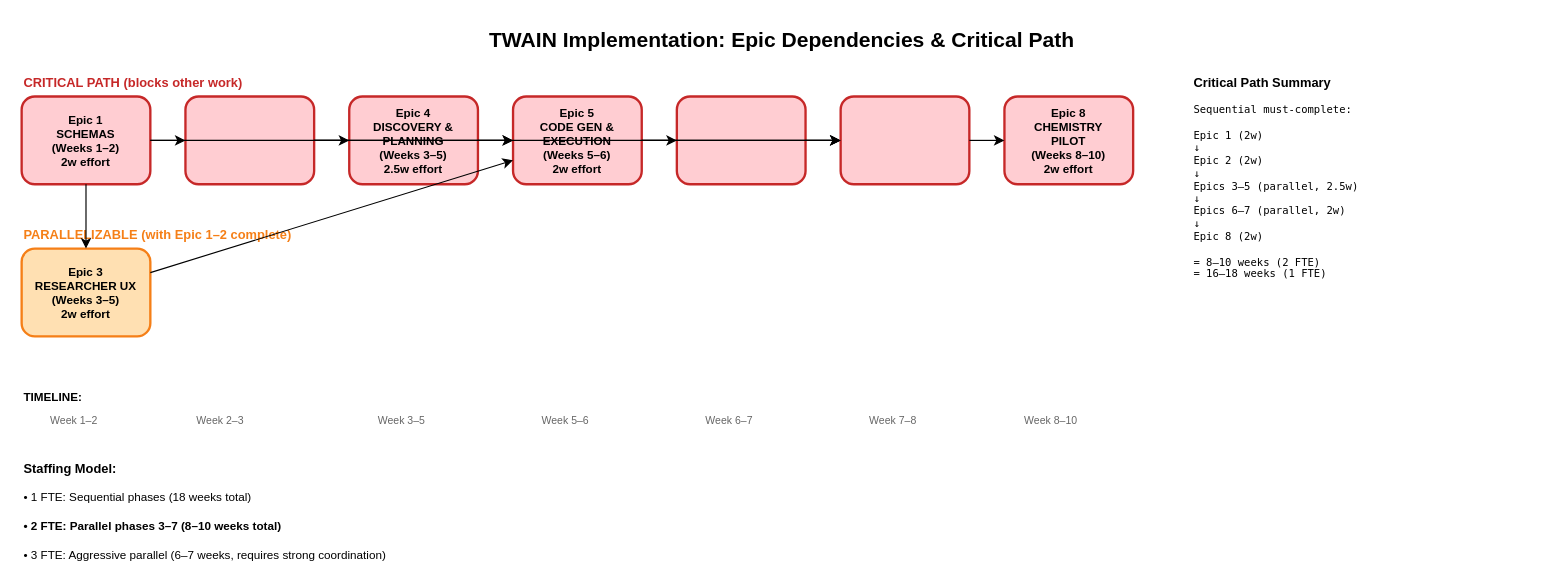
The diagram is 1562 pixels wide and 584 high, and some of its shapes have lost their labels. Here are the shapes that lost their labels. From the top down, the centre of each, then its label:
At [249,140]: "Epic 2 CONTROL PLANE (Weeks 2–3) 2w effort".
At [740,140]: "Epic 6 VALIDATION & CORRECTION (Weeks 6–7) 2w effort".
At [904,140]: "Epic 7 PROVENANCE & GOVERNANCE (Weeks 7–8) 2w effort".
